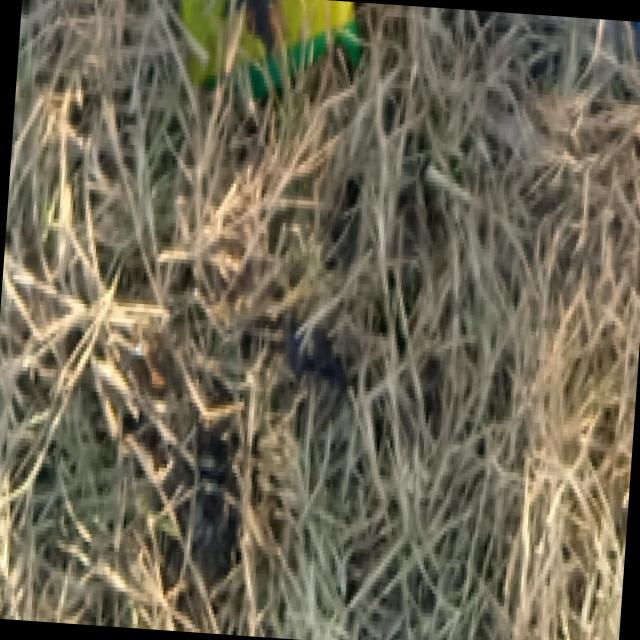paper: (481, 202, 637, 640), (0, 124, 165, 422), (166, 120, 310, 330)
